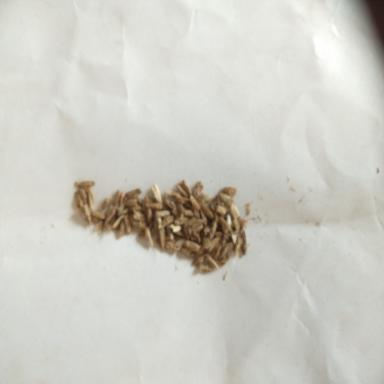pbw: (218, 240, 234, 260), (122, 188, 142, 204), (157, 214, 175, 230), (103, 207, 116, 227), (200, 201, 214, 218), (218, 192, 233, 207), (194, 244, 210, 258), (138, 222, 152, 238), (192, 252, 208, 266), (152, 184, 163, 204), (73, 192, 84, 211), (158, 227, 166, 253), (206, 254, 219, 270), (83, 203, 92, 226), (144, 226, 154, 246), (207, 237, 220, 252), (184, 240, 200, 252), (209, 216, 217, 240), (192, 180, 204, 196), (219, 216, 230, 233), (170, 223, 184, 236), (175, 183, 188, 197), (172, 238, 185, 252), (78, 188, 88, 206), (76, 180, 96, 189), (112, 214, 124, 229), (220, 251, 230, 269), (166, 192, 182, 203), (182, 178, 192, 195), (220, 187, 237, 197), (86, 188, 94, 208), (117, 219, 125, 239), (225, 213, 232, 235), (124, 215, 132, 234), (91, 210, 106, 220), (241, 230, 247, 255), (230, 204, 239, 220), (132, 211, 145, 222), (190, 195, 200, 209), (235, 236, 242, 256), (202, 222, 212, 236), (166, 225, 174, 242), (214, 243, 222, 260), (200, 209, 208, 226), (112, 189, 120, 206), (196, 194, 211, 203), (144, 203, 163, 210), (165, 198, 177, 209), (174, 216, 187, 226), (192, 231, 202, 244), (184, 218, 196, 228), (232, 219, 240, 234), (131, 221, 146, 229), (146, 207, 152, 226), (202, 236, 210, 250), (102, 197, 110, 211), (175, 200, 184, 212), (192, 225, 204, 234), (118, 190, 124, 207), (125, 199, 137, 207), (182, 209, 194, 217), (155, 210, 171, 216), (117, 208, 129, 216), (177, 196, 190, 203), (130, 204, 143, 211), (197, 265, 212, 271), (183, 226, 189, 240), (166, 242, 174, 252), (216, 206, 226, 214), (181, 248, 191, 256), (184, 201, 192, 208)
